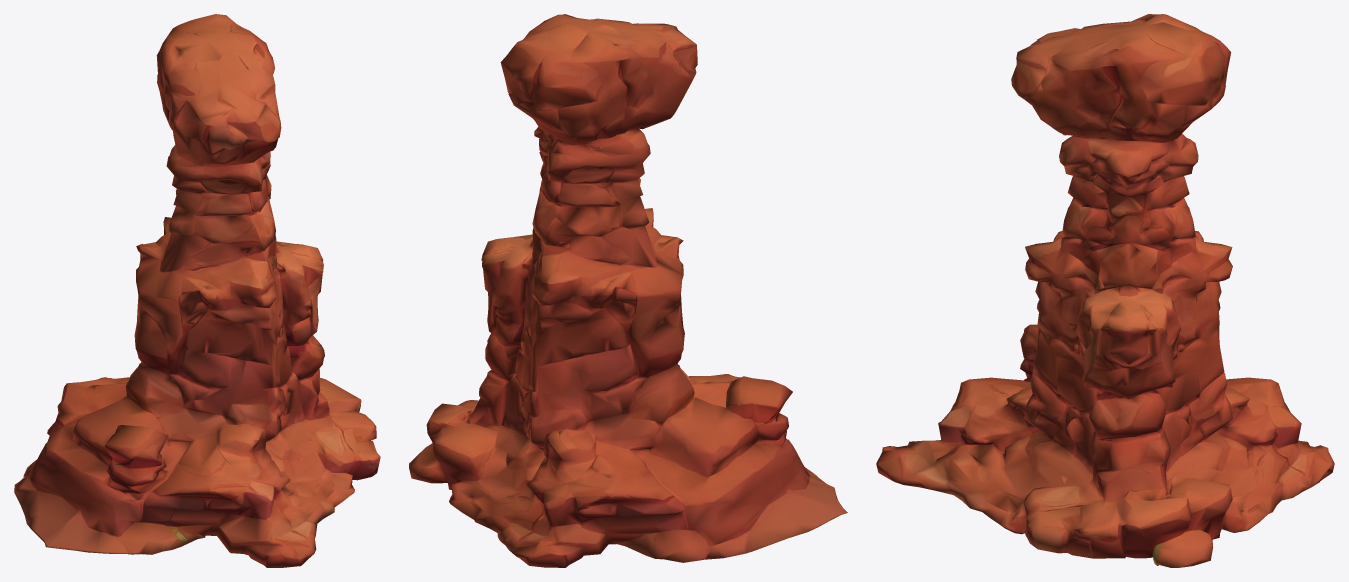
File: prop_gulch_spire.fbx
The picture shows the model from 3 angles, left to right: view 1: azimuth 30°, elevation 25°; view 2: azimuth 150°, elevation 25°; view 3: azimuth 270°, elevation 25°; orthographic projection. The views are drawn at different scales.
Visible parts, largest first — view 1: prop_gulch_spire_LOD0; view 2: prop_gulch_spire_LOD0; view 3: prop_gulch_spire_LOD0.
Part boxes in pixels (box(x1,y1,x2,y2)): prop_gulch_spire_LOD0: box(14, 14, 380, 567); prop_gulch_spire_LOD0: box(409, 14, 847, 567); prop_gulch_spire_LOD0: box(876, 14, 1334, 567).
Size of what is drawn, in the model's own units: 0.8333 by 0.9793 by 0.8707.
